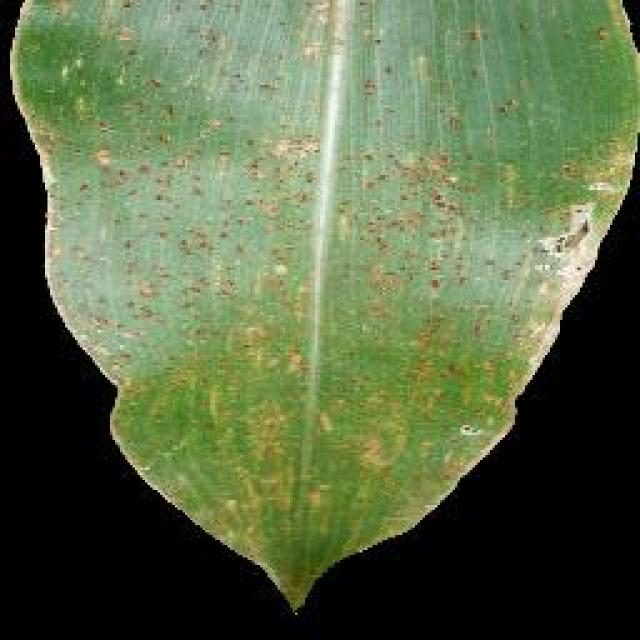Corn___Common_rust: (97, 0, 590, 432)
